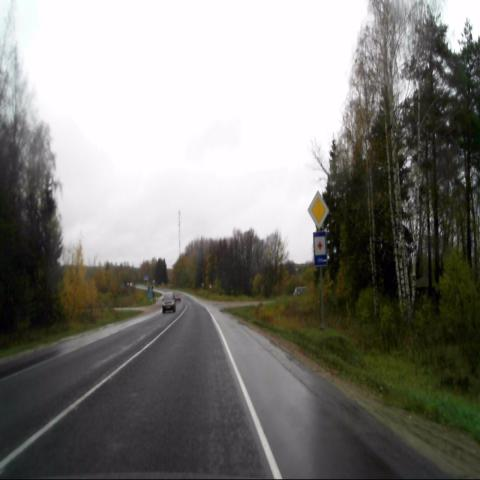7_1: (314, 232, 328, 266)
